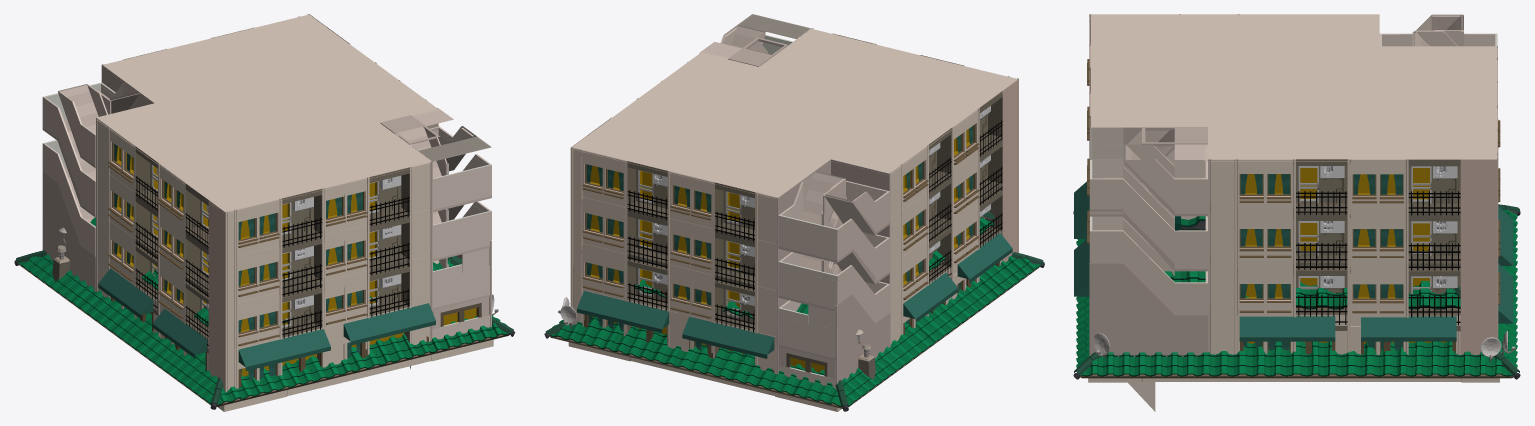
3 renders of one model, left to right at view 1: azimuth 30°, elevation 25°; view 2: azimuth 150°, elevation 25°; view 3: azimuth 270°, elevation 25°, orthographic. The views are drawn at different scales.
Parts seen in each view (by area): view 1: baseBig, midBlock, roofBig, roofBig.002; view 2: baseBig, midBlock, roofBig, roofBig.002; view 3: baseBig, midBlock, roofBig, roofBig.002, antenna.007.
Part boxes in pixels (x1,y1,x2,y2): baseBig: (42, 14, 491, 388); midBlock: (42, 67, 491, 391); roofBig: (14, 227, 515, 411); roofBig.002: (90, 217, 461, 328); baseBig: (570, 14, 1018, 389); midBlock: (570, 28, 1018, 387); roofBig: (544, 252, 1044, 411); roofBig.002: (635, 212, 995, 318); baseBig: (1074, 14, 1513, 356); midBlock: (1087, 15, 1500, 411); roofBig: (1073, 204, 1520, 382); roofBig.002: (1164, 216, 1460, 309); antenna.007: (1094, 330, 1515, 362).
Size of the model in its own units: 0.8098 by 0.5765 by 0.9199.
